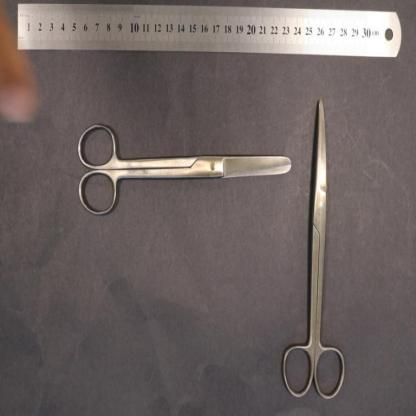Curved Mayo Scissors: (280, 97, 347, 403)
Dressing Scissors: (76, 121, 291, 218)
